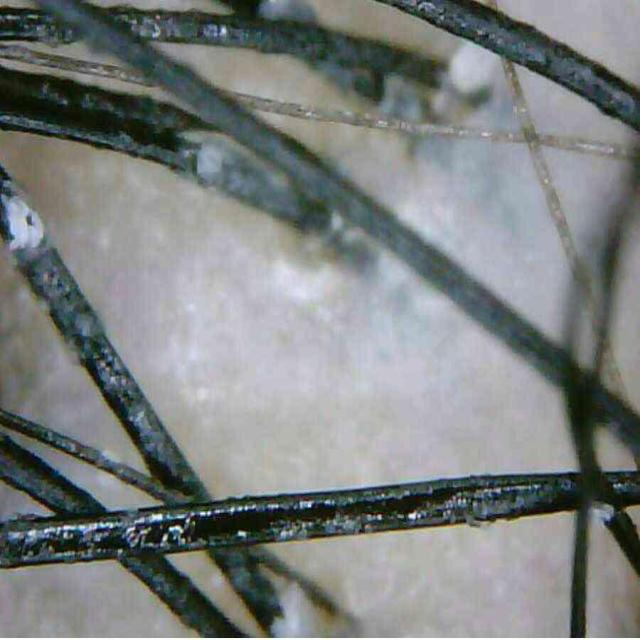d: (5, 197, 44, 251)
